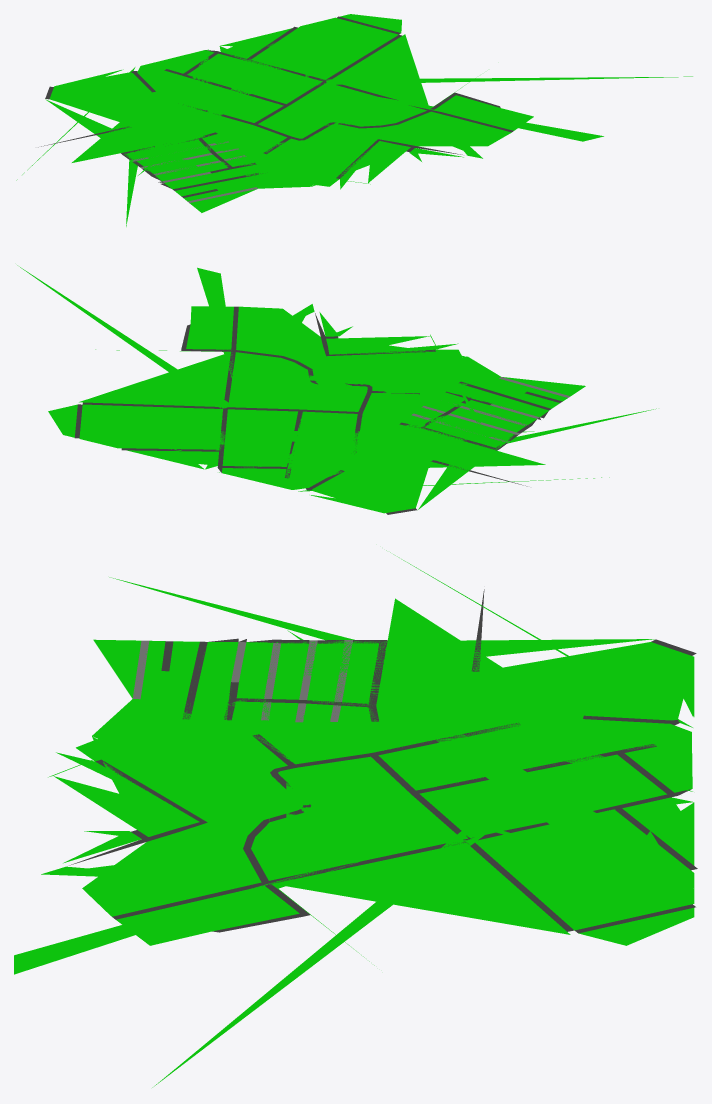
The picture shows the model from 3 angles, top to bottom: view 1: azimuth 30°, elevation 25°; view 2: azimuth 150°, elevation 25°; view 3: azimuth 270°, elevation 25°; orthographic projection. The views are drawn at different scales.
Bounding box in the file's own units: 570 × 0 × 302.
